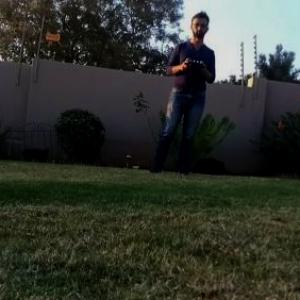follow: (143, 6, 219, 178)
